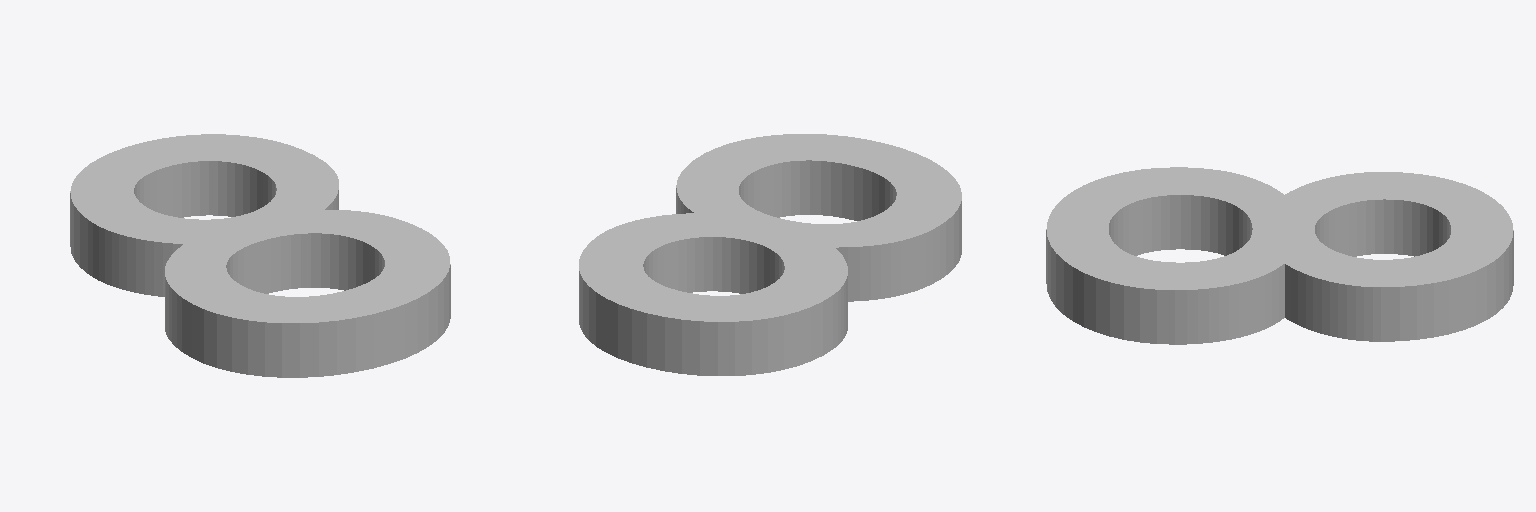
Rendered from eight.obj.
3 views of the same model, side by side, from view 1: azimuth 30°, elevation 25°; view 2: azimuth 150°, elevation 25°; view 3: azimuth 270°, elevation 25° (orthographic).
Visible parts, largest first — view 1: Text.008; view 2: Text.008; view 3: Text.008.
Part boxes in pixels (left/top/right/bottom): Text.008: left=70, top=134, right=450, bottom=377; Text.008: left=579, top=134, right=961, bottom=375; Text.008: left=1046, top=167, right=1513, bottom=344.
Size of the model in its own units: 0.436 by 0.09 by 0.7.